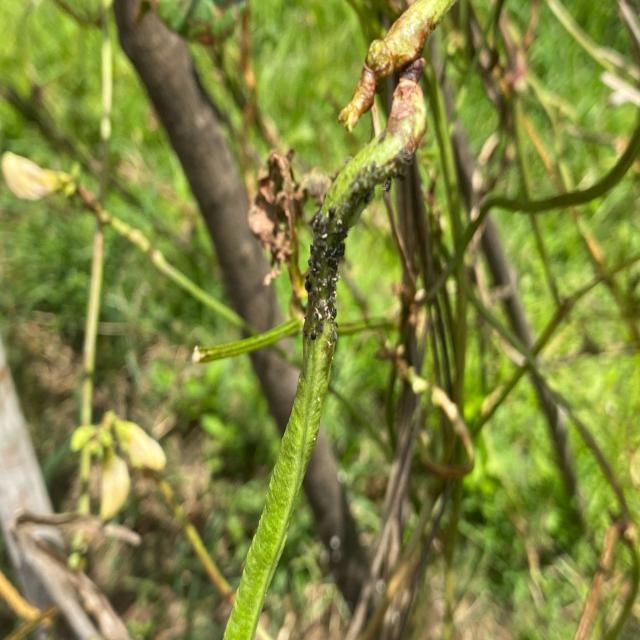sitaw-aphid-moderate: (224, 72, 426, 640)
